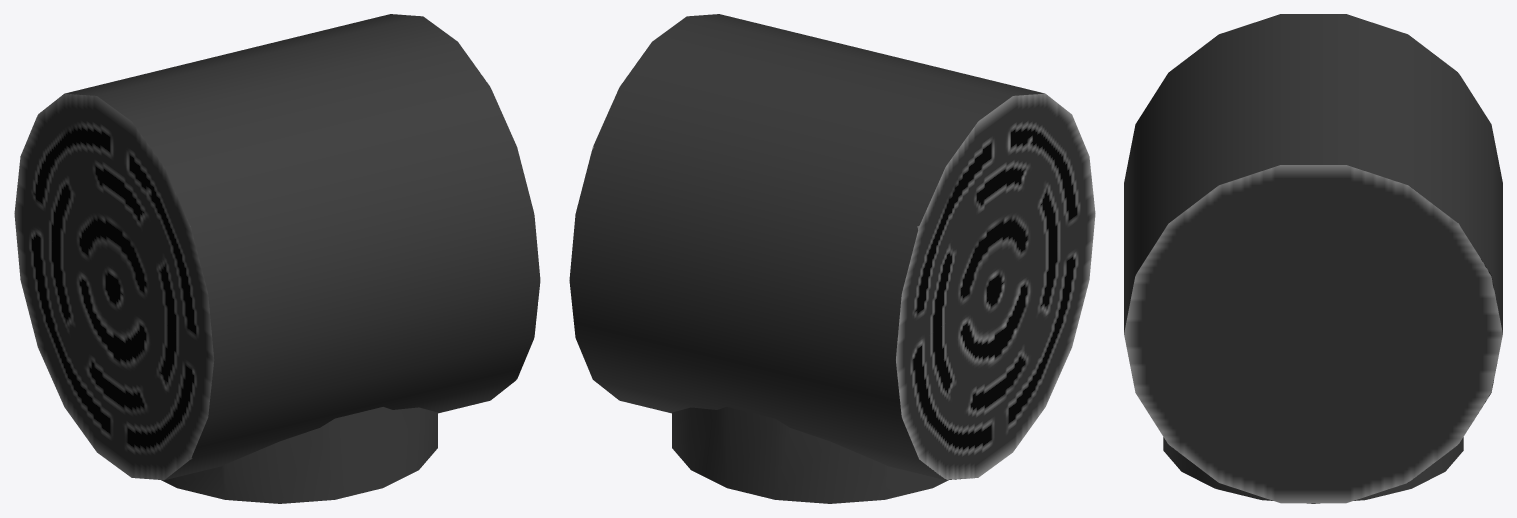
Rendered from USSensor.FBX.
3 renders of one model, left to right at view 1: azimuth 30°, elevation 25°; view 2: azimuth 150°, elevation 25°; view 3: azimuth 270°, elevation 25°, orthographic. The views are drawn at different scales.
Parts seen in each view (by area): view 1: USSensor; view 2: USSensor; view 3: USSensor.
Part boxes in pixels (x1,y1,x2,y2): USSensor: [14, 14, 540, 503]; USSensor: [569, 14, 1095, 503]; USSensor: [1124, 14, 1502, 503].
Size of the model in its own units: 4.01 by 4.32 by 4.26.
